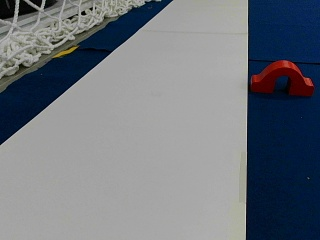bridge: (252, 60, 313, 94)
